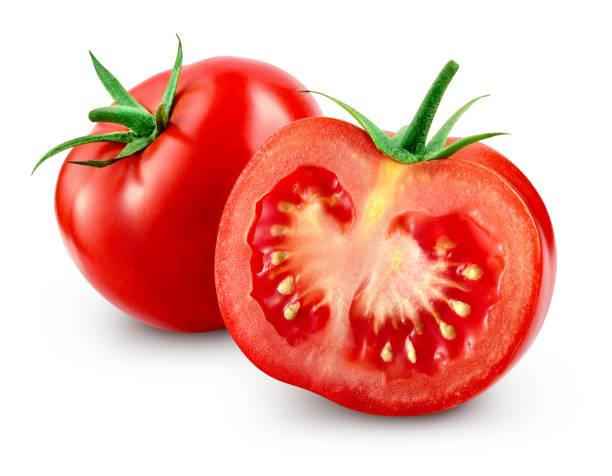Tomato: (50, 54, 564, 413)
